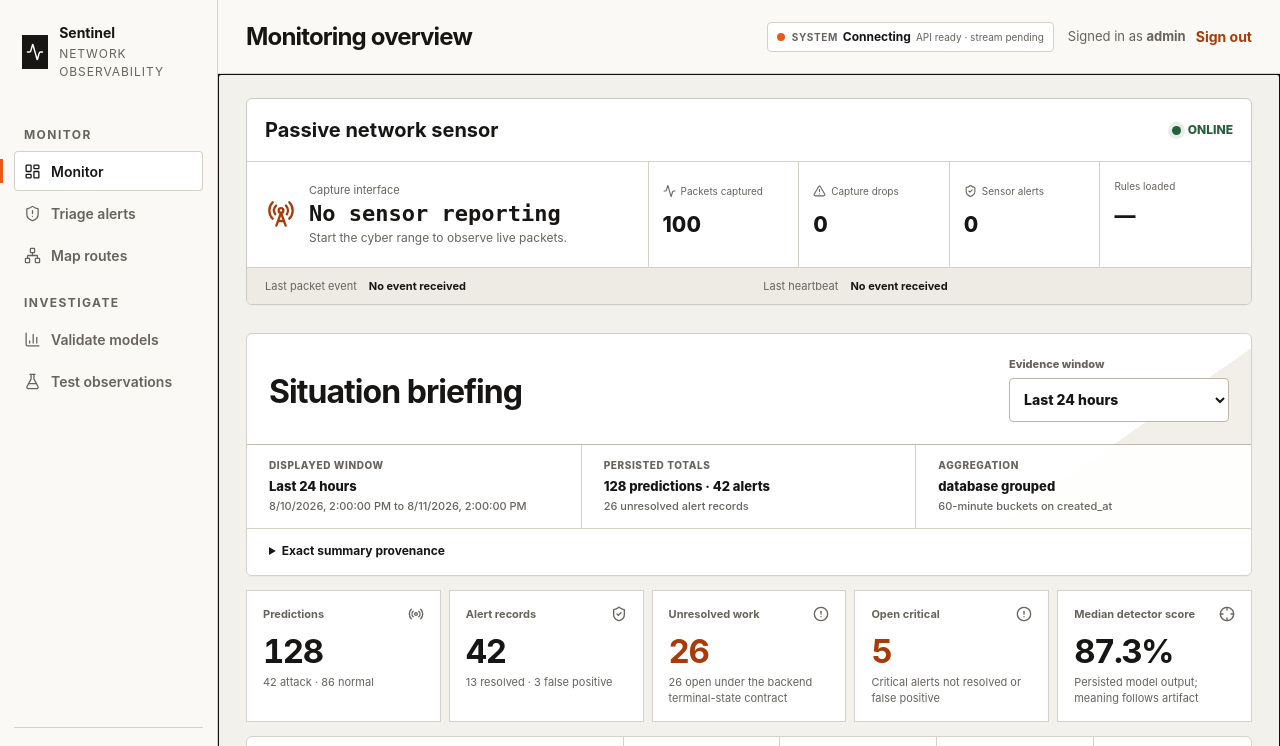
dashboard › refreshes the persisted summary when a live alert is delivered
The width and height of the screenshot is (1280, 746).
Click the link "Triage alerts": x=80, y=213 [24,204,136,222]
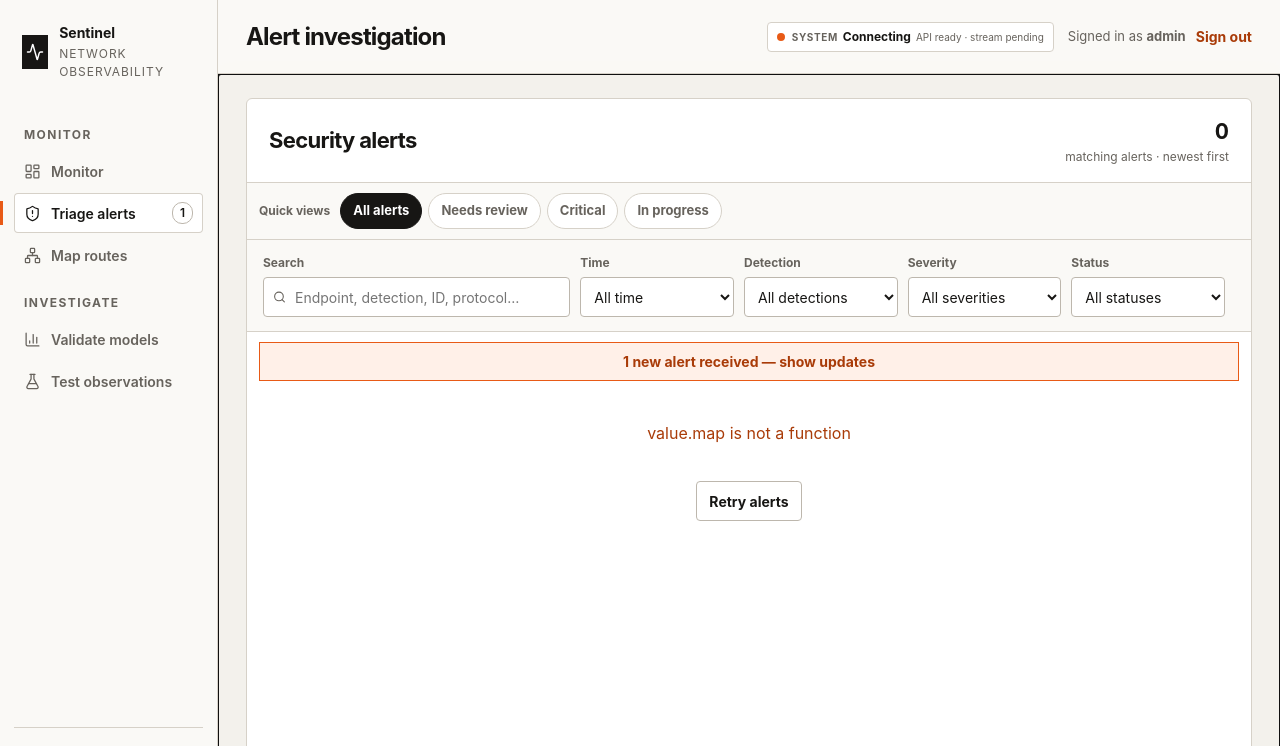
Result: the heading "Security alerts" is shown at [269,124,417,157]
Result: the button "1 new alert received — show updates" is shown at [259,342,1239,381]
